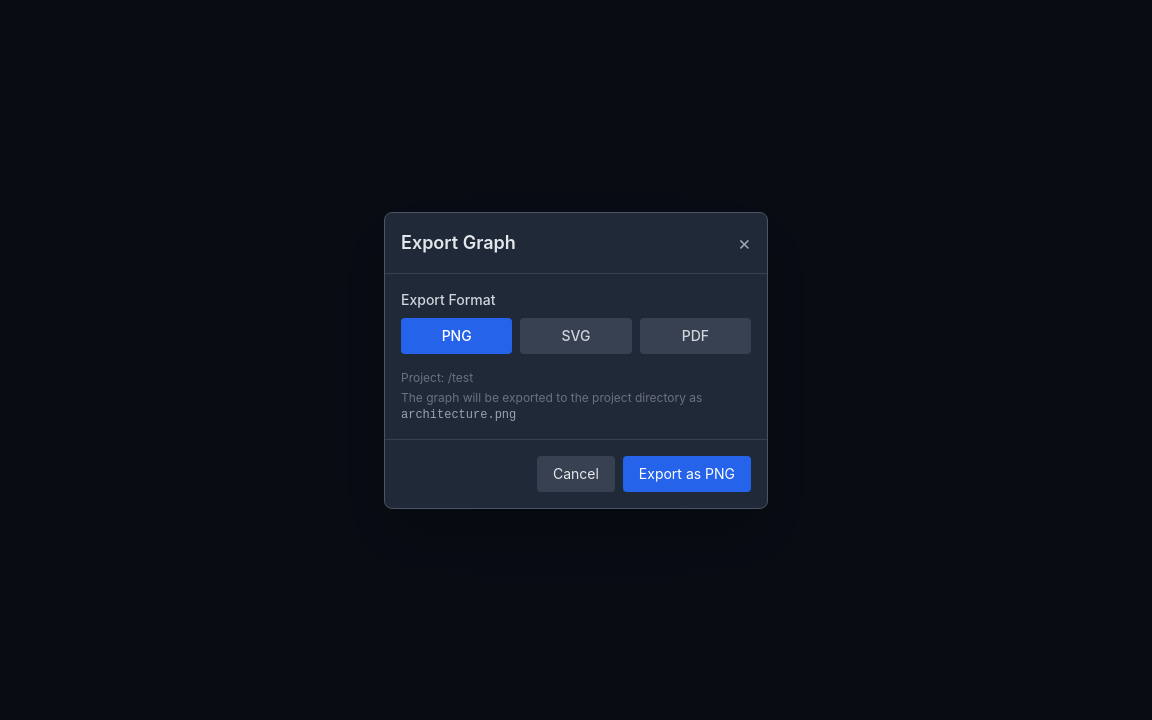
Test: ExportDialog › shows error message after failed export
Click the button "Export as PNG" at (687, 474), box [623,456,751,492]
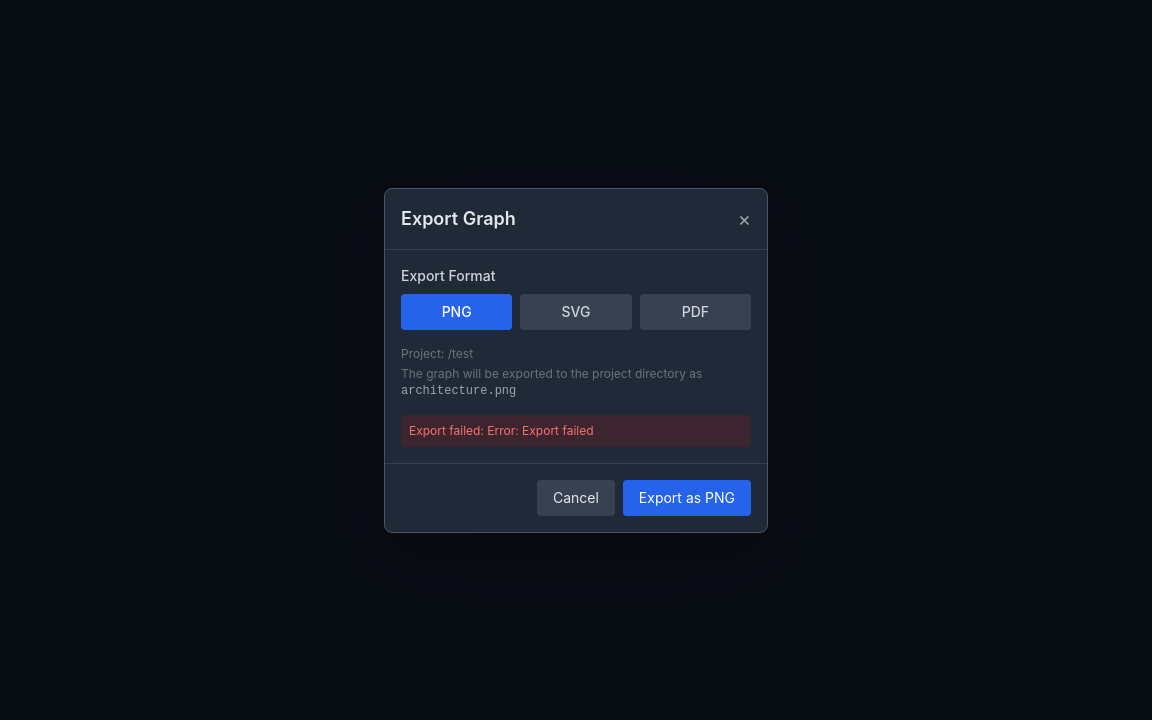
Expected: the text "Export failed: Error: Export failed" is shown, [401,414,751,446]
